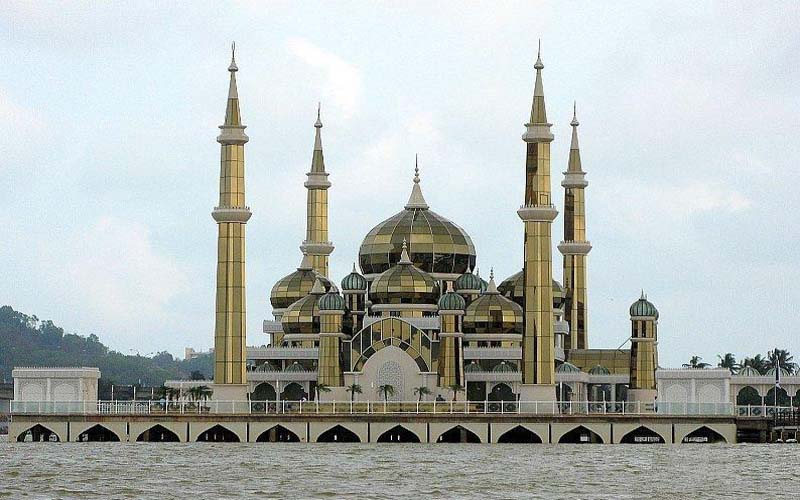Mosque: (191, 47, 671, 417)
